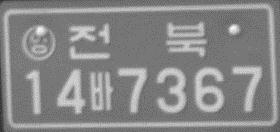1: (19, 68, 51, 115)
3: (155, 66, 187, 114)
4: (54, 68, 85, 114)
6: (193, 66, 225, 113)
7: (231, 63, 263, 112), (117, 65, 147, 113)
바: (88, 70, 114, 111)
영: (20, 23, 57, 62)
전북_D: (67, 20, 206, 62)
